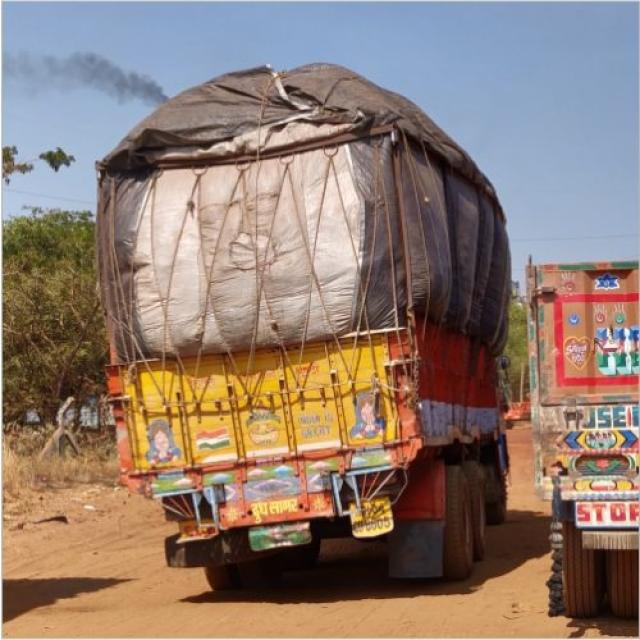truck: (96, 64, 510, 588)
